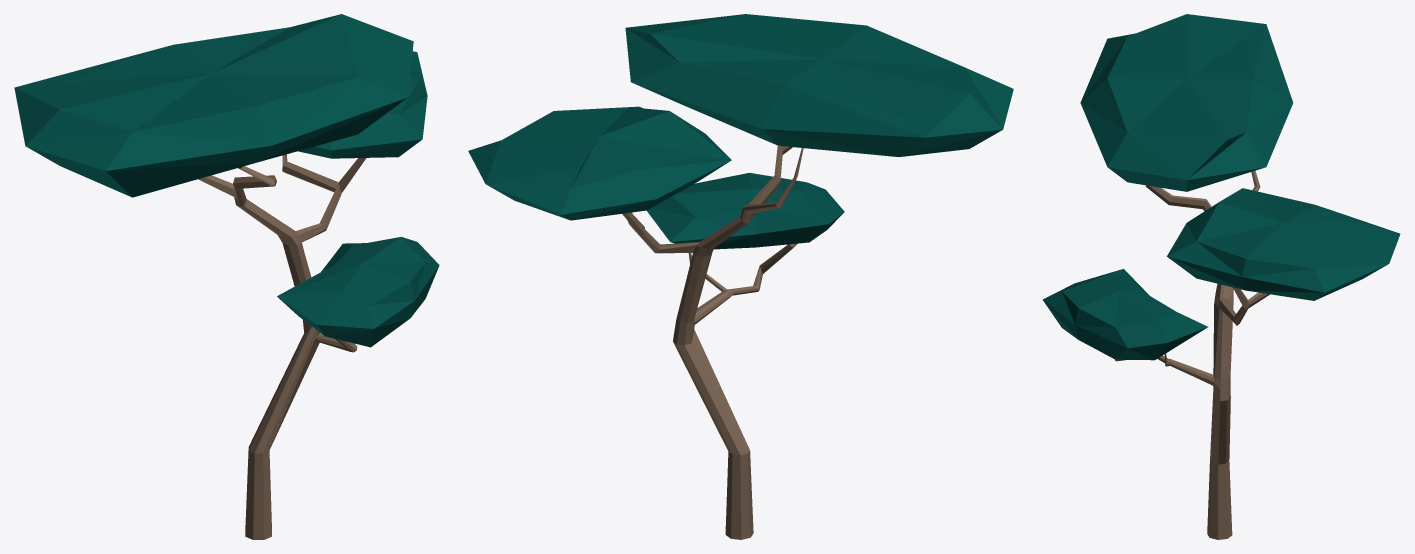
Rendered from Tree_5.fbx.
3 views of the same model, side by side, from view 1: azimuth 30°, elevation 25°; view 2: azimuth 150°, elevation 25°; view 3: azimuth 270°, elevation 25° (orthographic). The views are drawn at different scales.
Visible parts, largest first — view 1: Tree_5; view 2: Tree_5; view 3: Tree_5.
Part boxes in pixels (box(x1,y1,x2,y2)): Tree_5: box(14, 14, 439, 539); Tree_5: box(468, 14, 1013, 539); Tree_5: box(1042, 14, 1400, 539).
Size of the model in its own units: 401 by 303 by 404.
